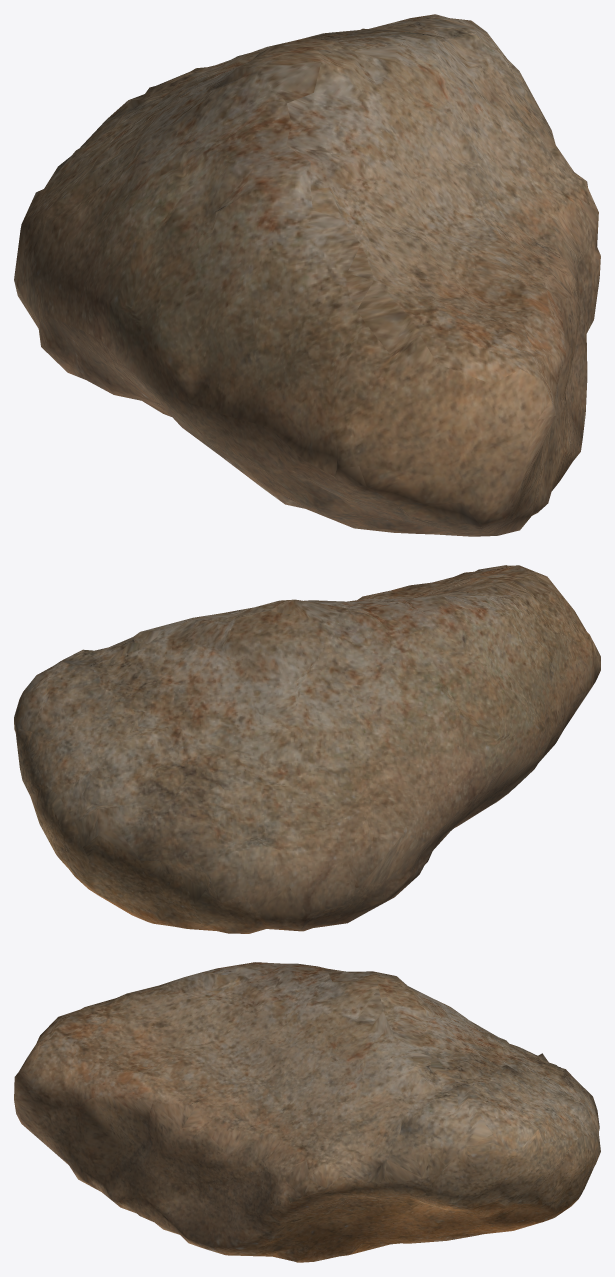
The model's file is nama_rock_a.glb.
The picture shows the model from 3 angles, top to bottom: view 1: azimuth 30°, elevation 25°; view 2: azimuth 150°, elevation 25°; view 3: azimuth 270°, elevation 25°; orthographic projection. The views are drawn at different scales.
Parts seen in each view (by area): view 1: nama_rock_a; view 2: nama_rock_a; view 3: nama_rock_a.
Boxes of the visible parts, left/top/right/bottom form: nama_rock_a: left=14, top=14, right=600, bottom=536; nama_rock_a: left=14, top=565, right=600, bottom=933; nama_rock_a: left=14, top=962, right=600, bottom=1262.
Size of the model in its own units: 1.67 by 1.16 by 2.54.
Materials: 1 (1 with a texture image).
